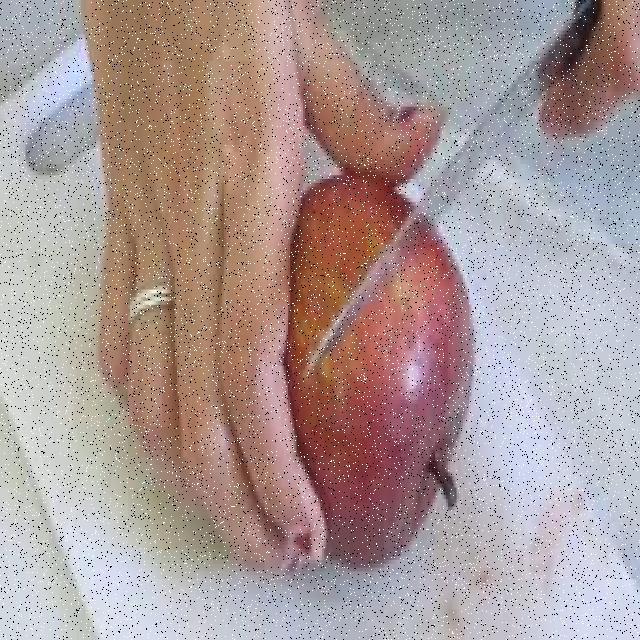Apple: (274, 174, 473, 569)
